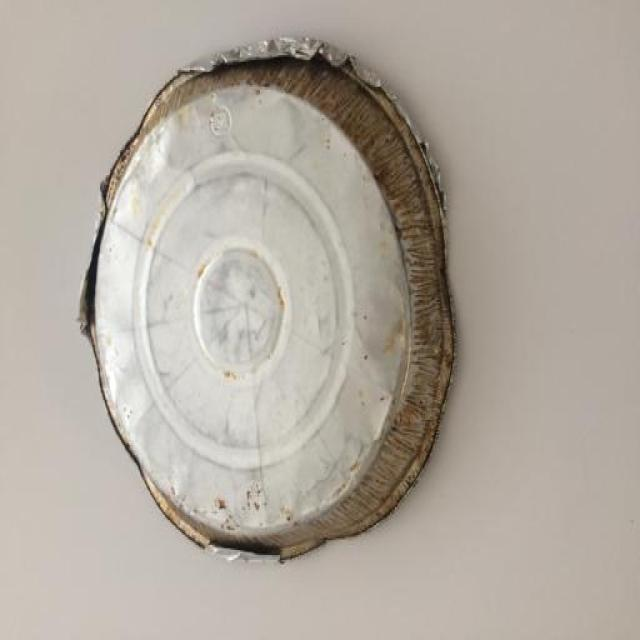metal: (78, 31, 456, 562)
